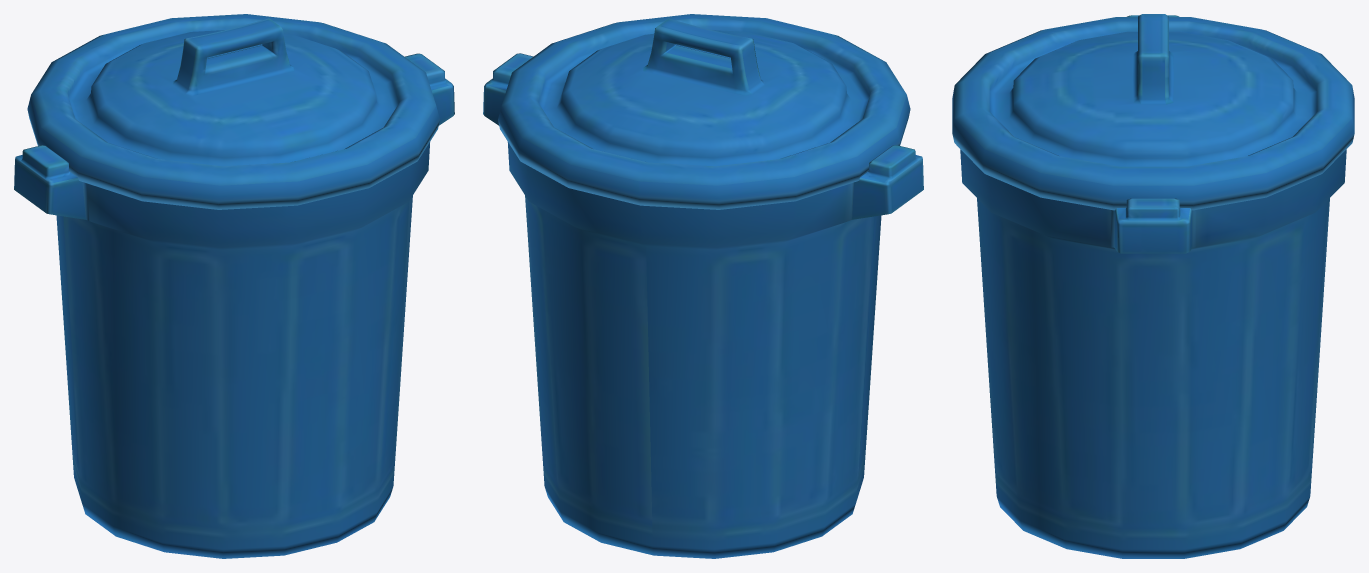
3 views of the same model, side by side, from view 1: azimuth 30°, elevation 25°; view 2: azimuth 150°, elevation 25°; view 3: azimuth 270°, elevation 25° (orthographic).
Bounding box in the file's own units: 9.56 × 10.31 × 8.17.
1 material, 1 textured.
